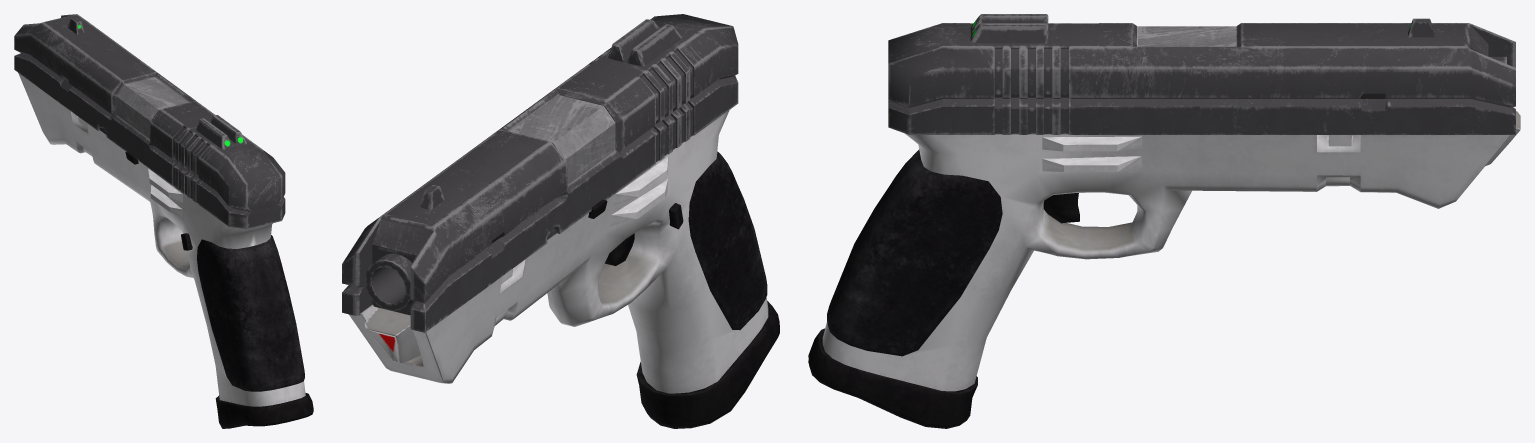
The model's file is gun.obj.
3 views of the same model, side by side, from view 1: azimuth 30°, elevation 25°; view 2: azimuth 150°, elevation 25°; view 3: azimuth 270°, elevation 25° (orthographic). The views are drawn at different scales.
Visible parts, largest first — view 1: Body; view 2: Body; view 3: Body.
Boxes of the visible parts, <box> form: Body: <box>14,14,313,428</box>; Body: <box>342,14,779,428</box>; Body: <box>808,14,1520,428</box>.
Size of the model in its own units: 0.0386 by 0.1522 by 0.2474.
1 material, 1 textured.
